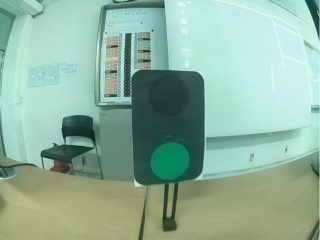green_light: (130, 69, 202, 183)
